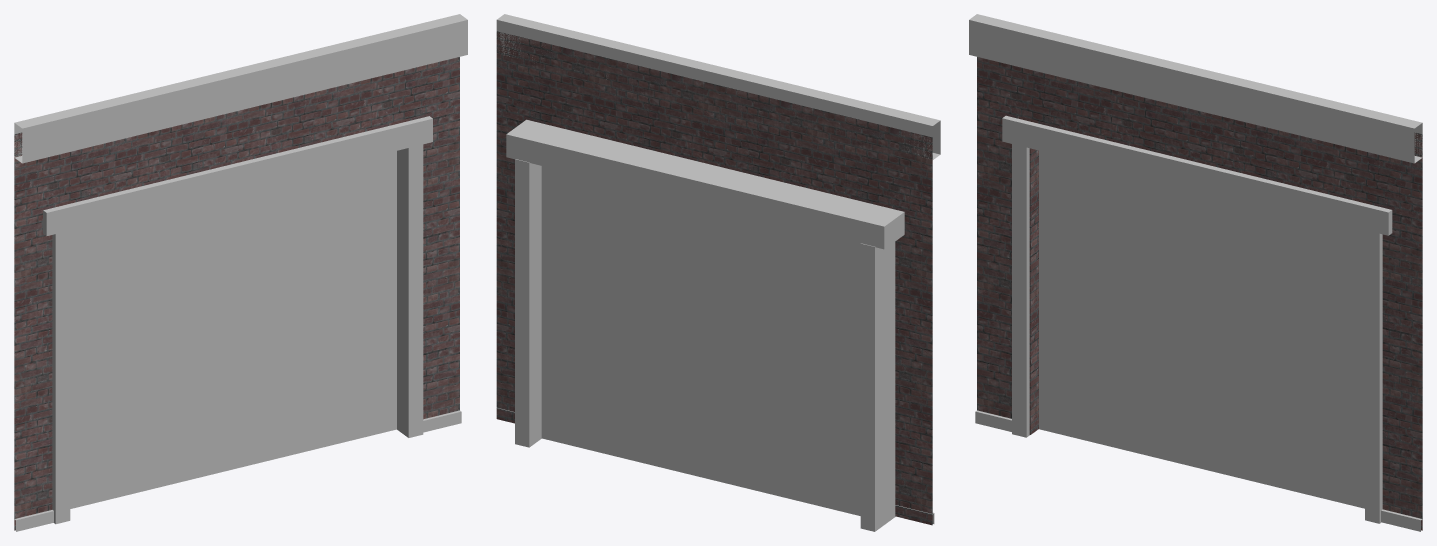
File: Wall_A_Brick_Shops_A_4x.FBX
3 renders of one model, left to right at view 1: azimuth 30°, elevation 25°; view 2: azimuth 150°, elevation 25°; view 3: azimuth 330°, elevation 25°, orthographic. The views are drawn at different scales.
Parts seen in each view (by area): view 1: Wall_A_Brick_Shops_A_4x; view 2: Wall_A_Brick_Shops_A_4x; view 3: Wall_A_Brick_Shops_A_4x.
Part boxes in pixels (bbox=[...]): Wall_A_Brick_Shops_A_4x: bbox=[14, 14, 467, 531]; Wall_A_Brick_Shops_A_4x: bbox=[496, 14, 940, 531]; Wall_A_Brick_Shops_A_4x: bbox=[969, 14, 1422, 531].
Size of the model in its own units: 400 by 350 by 45.14.
